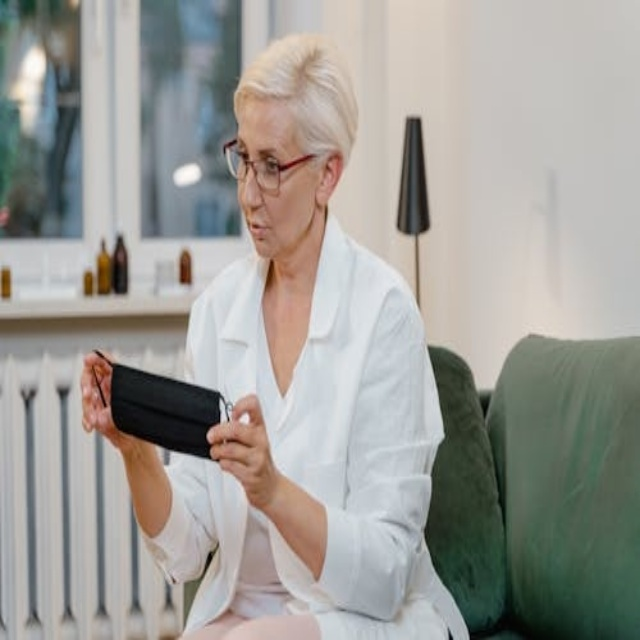Gafas: (224, 138, 324, 194)
Sin_guantes: (206, 382, 283, 515), (65, 344, 123, 461)
Sin_mascara: (241, 213, 276, 244)
